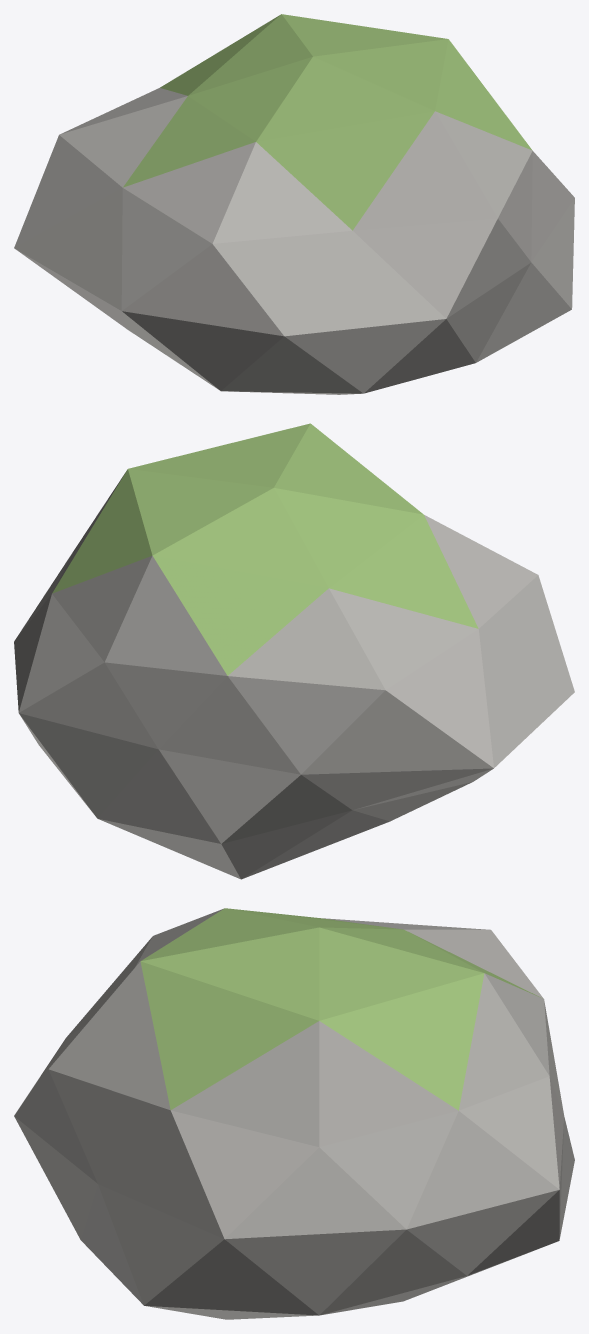
The model's file is Rock_1.fbx.
The picture shows the model from 3 angles, top to bottom: view 1: azimuth 30°, elevation 25°; view 2: azimuth 150°, elevation 25°; view 3: azimuth 270°, elevation 25°; orthographic projection. The views are drawn at different scales.
Visible parts, largest first — view 1: Rock_1; view 2: Rock_1; view 3: Rock_1.
Boxes of the visible parts, x1,y1,x2,y2 form: Rock_1: [14, 14, 574, 394]; Rock_1: [14, 423, 574, 879]; Rock_1: [14, 908, 574, 1319].
Bounding box in the file's own units: 2.09 × 1.29 × 1.88.
